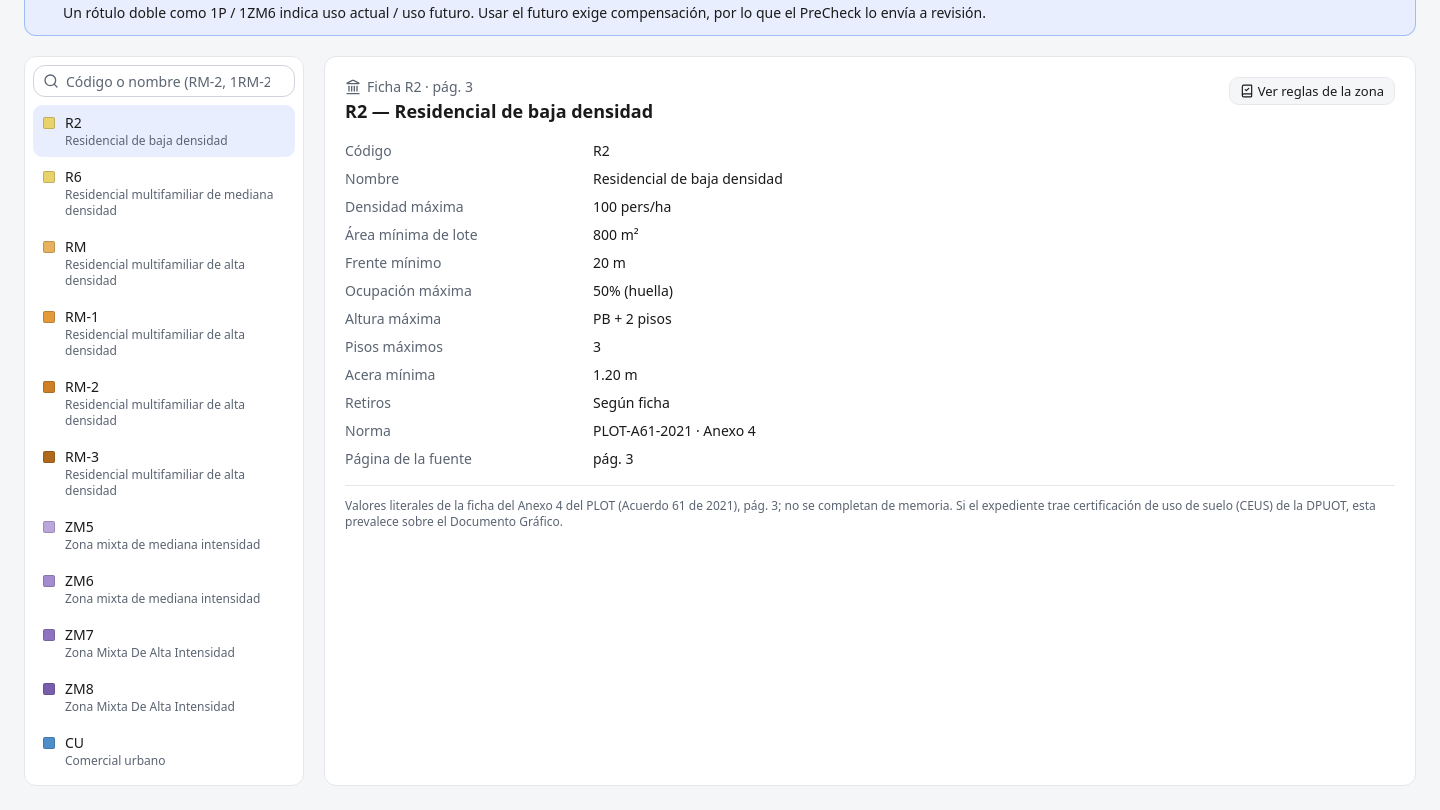
it: ZoningView › cambia de ficha al elegir otra zona
(page scrolled)
What coordinates should you click on to do the following:
click the button "CU Comercial urbano"
I would click on:
 (164, 751)
Its box is [33,725,295,777].
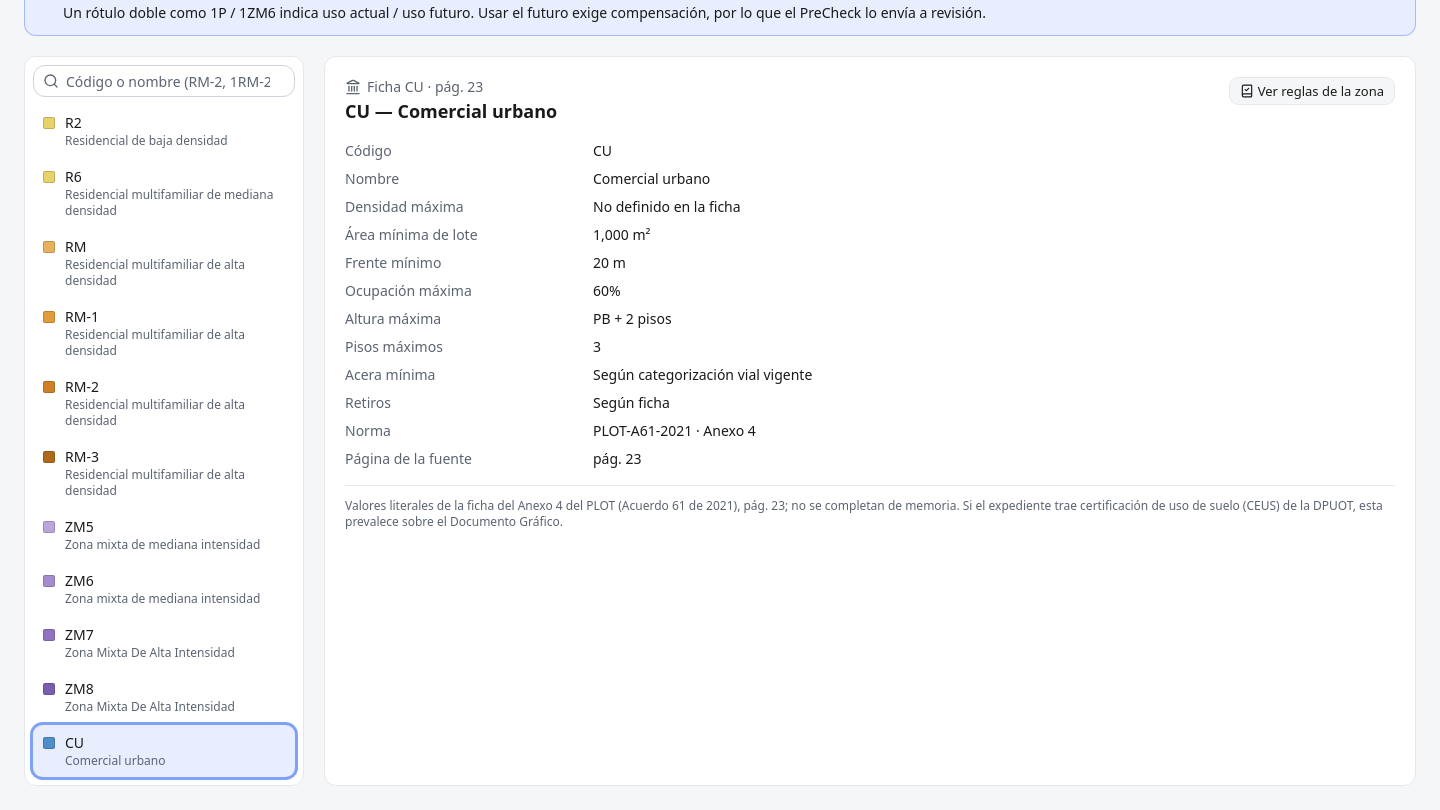
expect the element "CU — Comercial urbano" is shown: met
